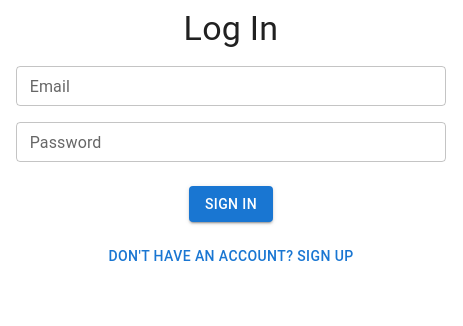
Test: component Form, page login › should be a button disabled when the form is empty
Click the button "Sign In": point(231, 204) x1=189 y1=186 x2=273 y2=222
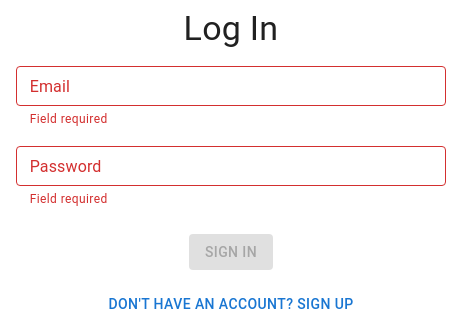
Expected: the button "Sign In" is disabled, x1=189 y1=234 x2=273 y2=270
